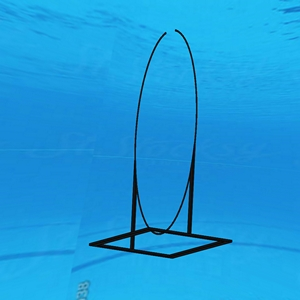circle: (87, 28, 237, 262)
